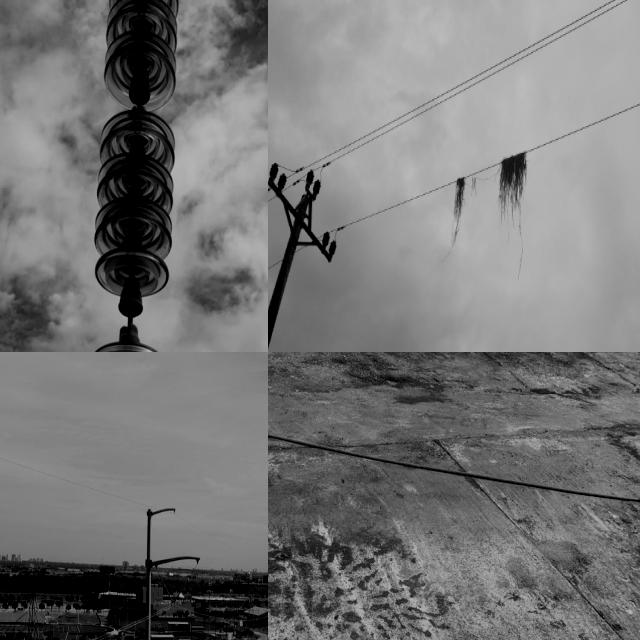植被遮挡: (498, 147, 529, 274), (446, 175, 466, 261)
正常绝缘子: (96, 0, 176, 352), (169, 573, 193, 611), (157, 568, 176, 608), (268, 161, 281, 182), (276, 171, 288, 193), (305, 167, 316, 189), (311, 177, 322, 199), (321, 230, 332, 250), (327, 240, 338, 260)
绝缘子破损: (117, 290, 146, 330), (125, 79, 156, 108)
